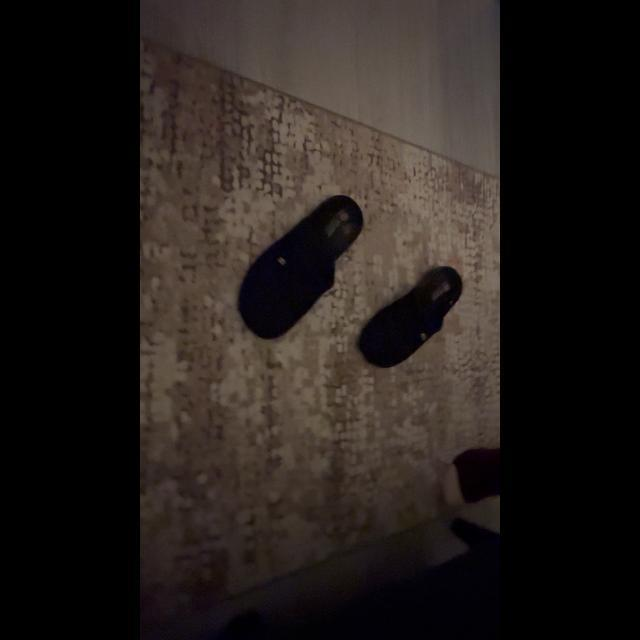slipper: (230, 192, 370, 340), (357, 262, 468, 380)
